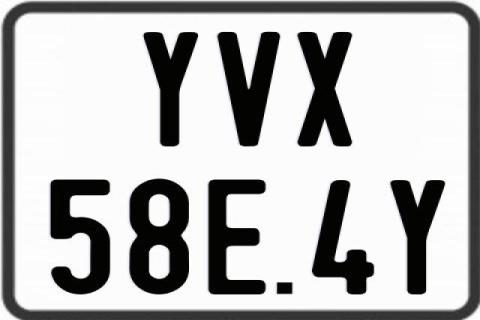0: (50, 179, 116, 299), (309, 178, 375, 296), (126, 177, 187, 293)
E: (208, 177, 272, 292)
V: (216, 29, 284, 149)
X: (296, 32, 357, 149)
Y: (141, 31, 199, 148), (388, 178, 443, 296)
